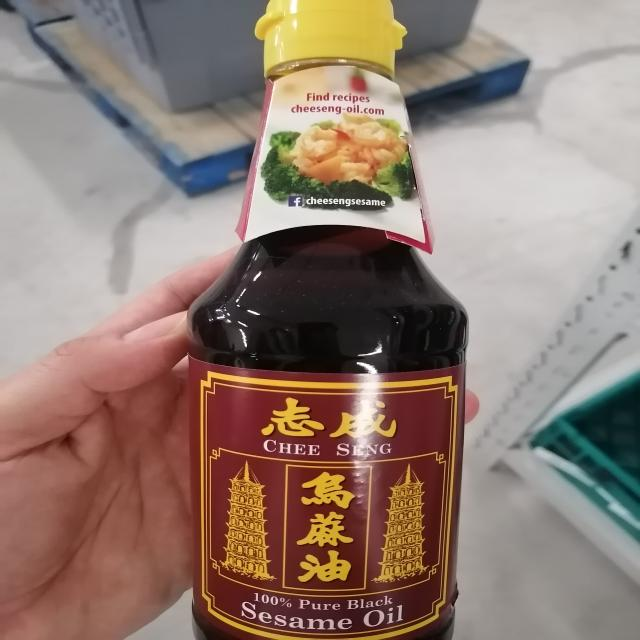object_name: (202, 3, 456, 640)
